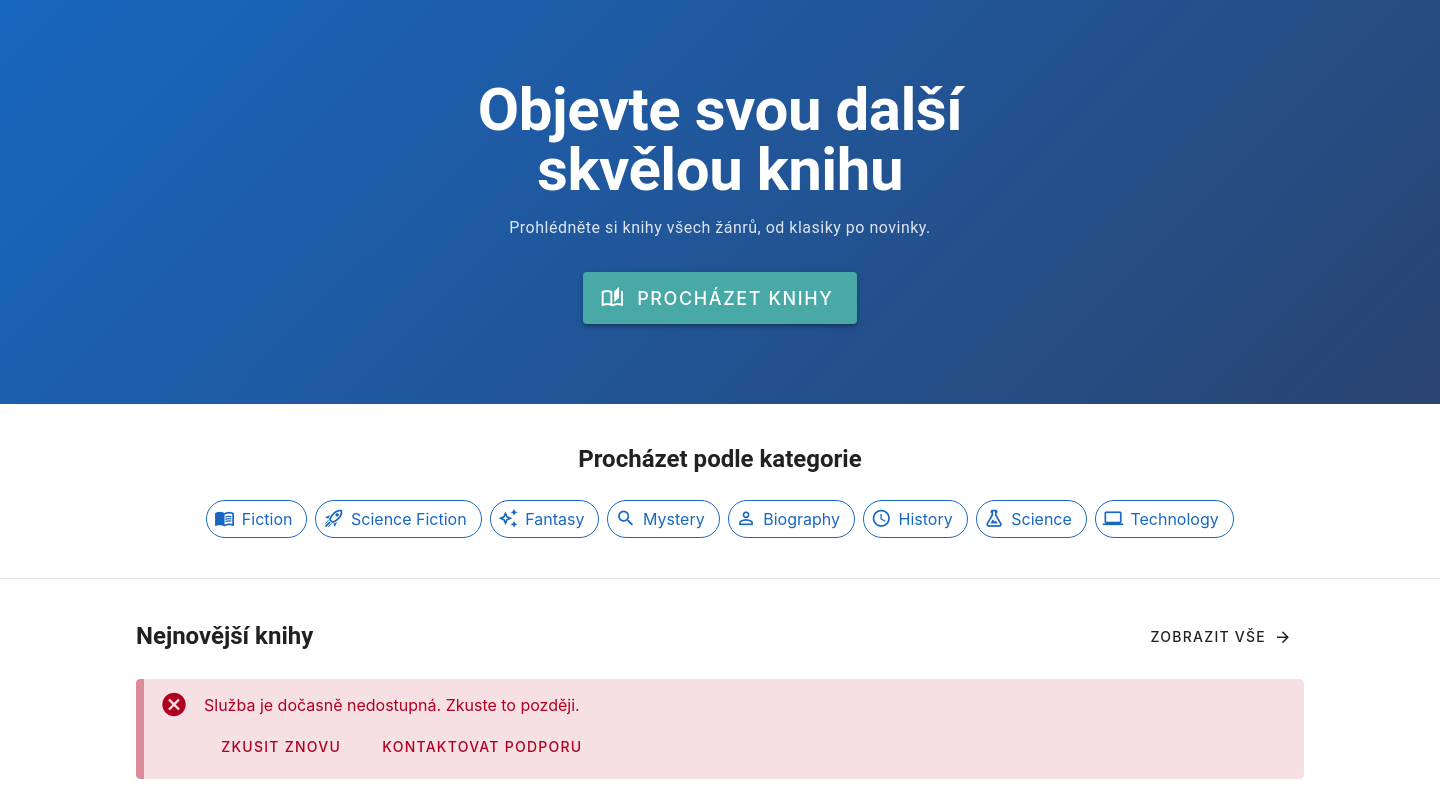
Test: HomeView › shows an error with Try again instead of "no books" when the books cannot be loaded
Expected: the message is shown, [136,679,1304,779]
Click the button "Zkusit znovu" at (280, 747), box [204,729,357,765]
(page scrolled)
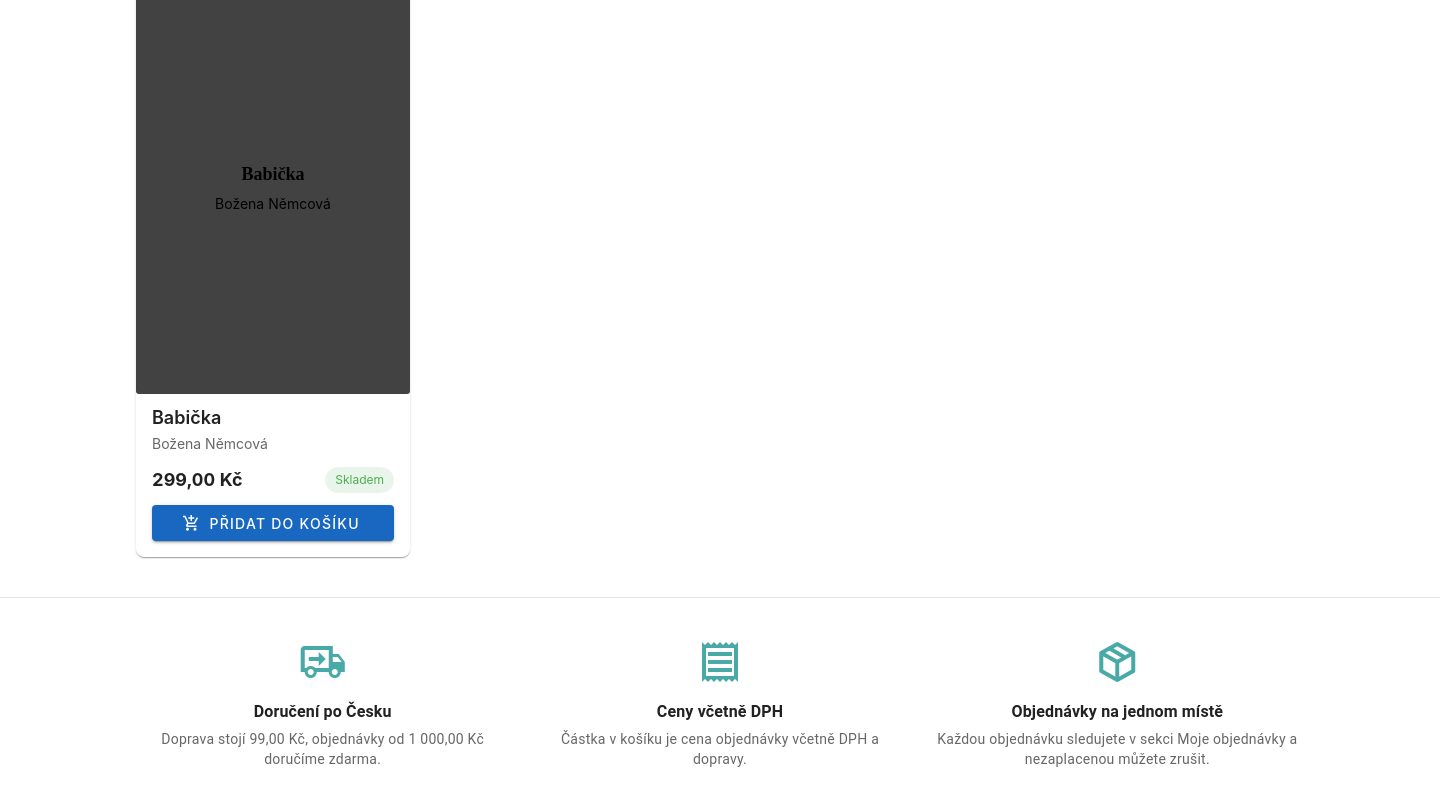
Expected: the link with class "book-card__link" reads "Babička", [152,407,221,428]
